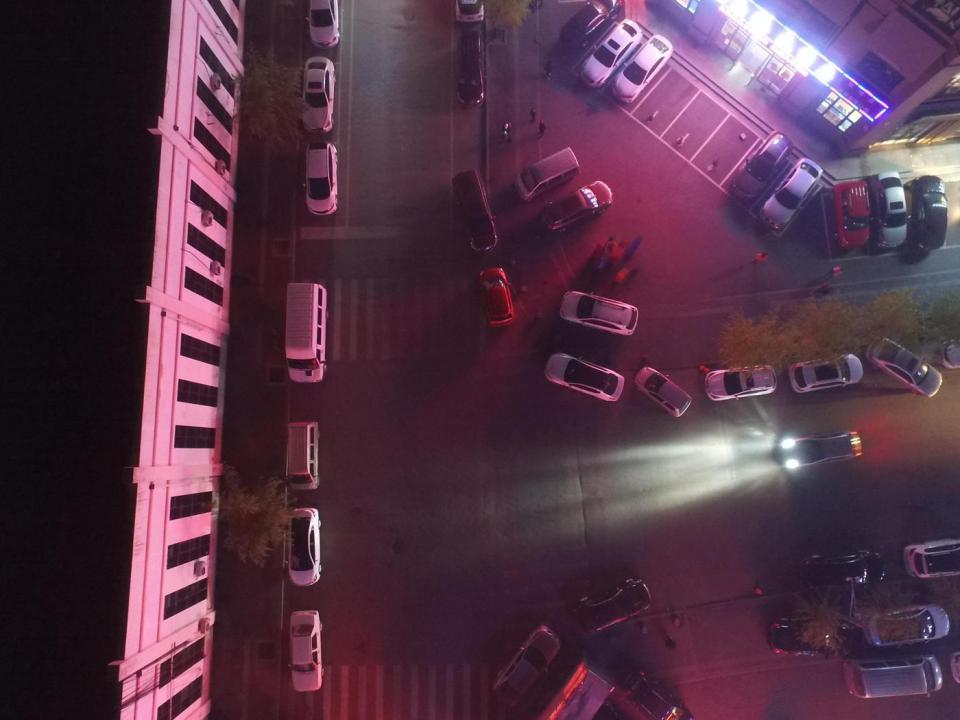car: (492, 625, 560, 707), (760, 156, 823, 231), (864, 337, 942, 396), (572, 577, 650, 635), (580, 19, 644, 88), (731, 130, 793, 198), (612, 34, 672, 102), (543, 353, 625, 401), (621, 670, 697, 719), (864, 602, 948, 646), (560, 291, 638, 336), (773, 619, 858, 658), (781, 430, 861, 469), (287, 610, 324, 692), (789, 353, 862, 394), (634, 366, 693, 416), (801, 551, 884, 586), (285, 508, 322, 585), (911, 176, 948, 251), (872, 172, 907, 250), (830, 181, 870, 248), (301, 140, 336, 216), (302, 56, 336, 132), (706, 365, 777, 400), (904, 537, 960, 579), (480, 267, 515, 328), (306, 0, 342, 48), (454, 0, 484, 23), (938, 339, 960, 369)
van: (842, 654, 944, 698), (286, 282, 328, 384), (540, 180, 613, 233), (451, 170, 498, 252), (515, 146, 580, 204), (560, 0, 621, 47), (286, 422, 318, 490), (457, 32, 484, 106)
